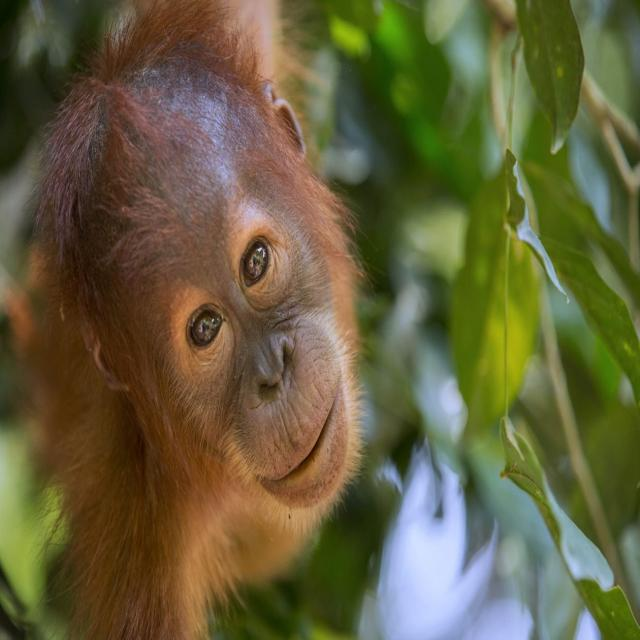Orangutan: (38, 41, 365, 640)
